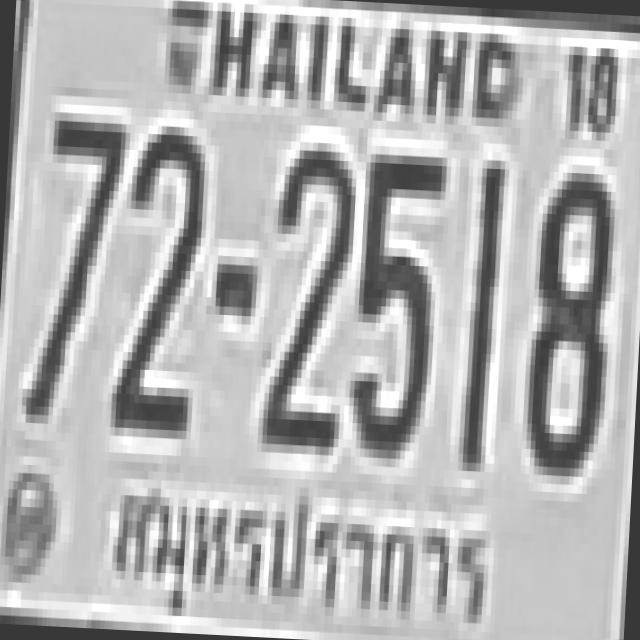1: (458, 156, 501, 468)
2: (109, 120, 204, 427), (262, 136, 354, 444)
5: (347, 145, 443, 452)
7: (26, 108, 122, 422), (33, 108, 125, 414)
8: (520, 162, 612, 470)
SamutPrakan: (98, 460, 502, 640)
